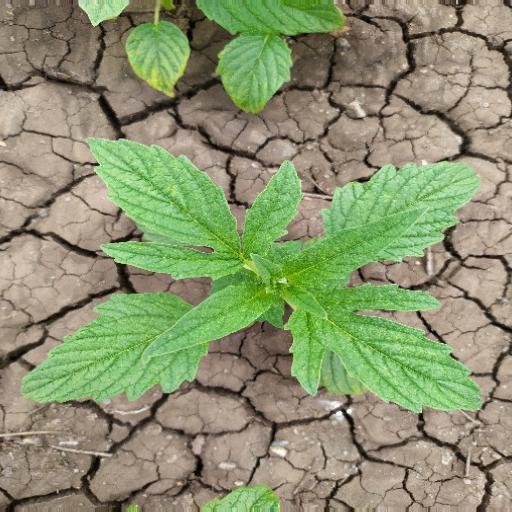crop: (25, 120, 501, 445)
